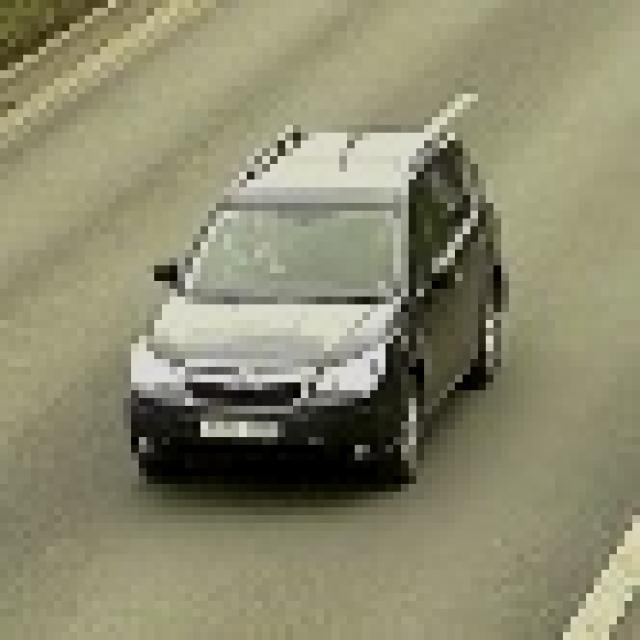SUV: (132, 129, 498, 476)
